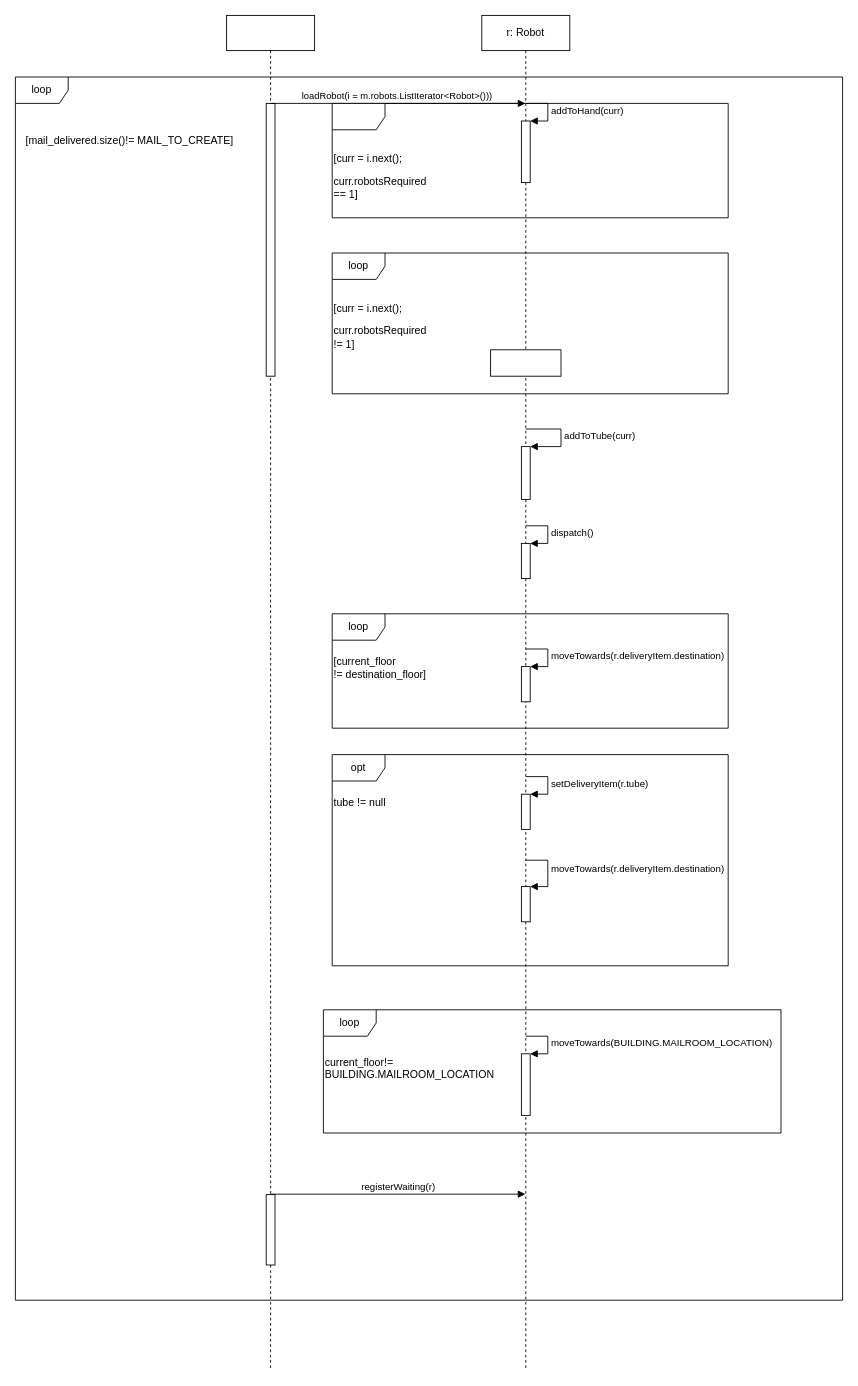
Some shapes in this 858 by 1386 pixel diagram are drawn without their labels. The shapes that lost their labels are listed below. From the top down, each one's box as (x1, y1, x2, y2) in pixels, then its label:
(331, 103, 728, 218): alt
(490, 349, 561, 376): i.next()
(226, 15, 315, 1371): m:IMailPool
